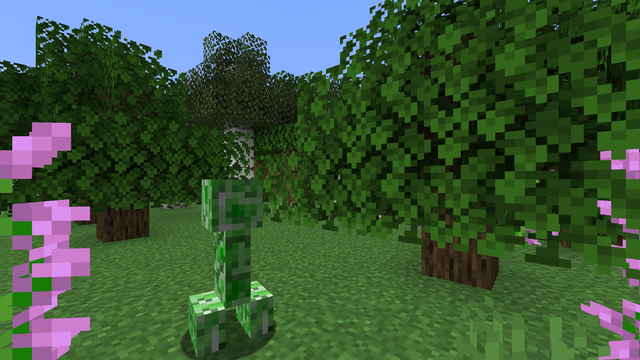creepers: (190, 171, 271, 358)
